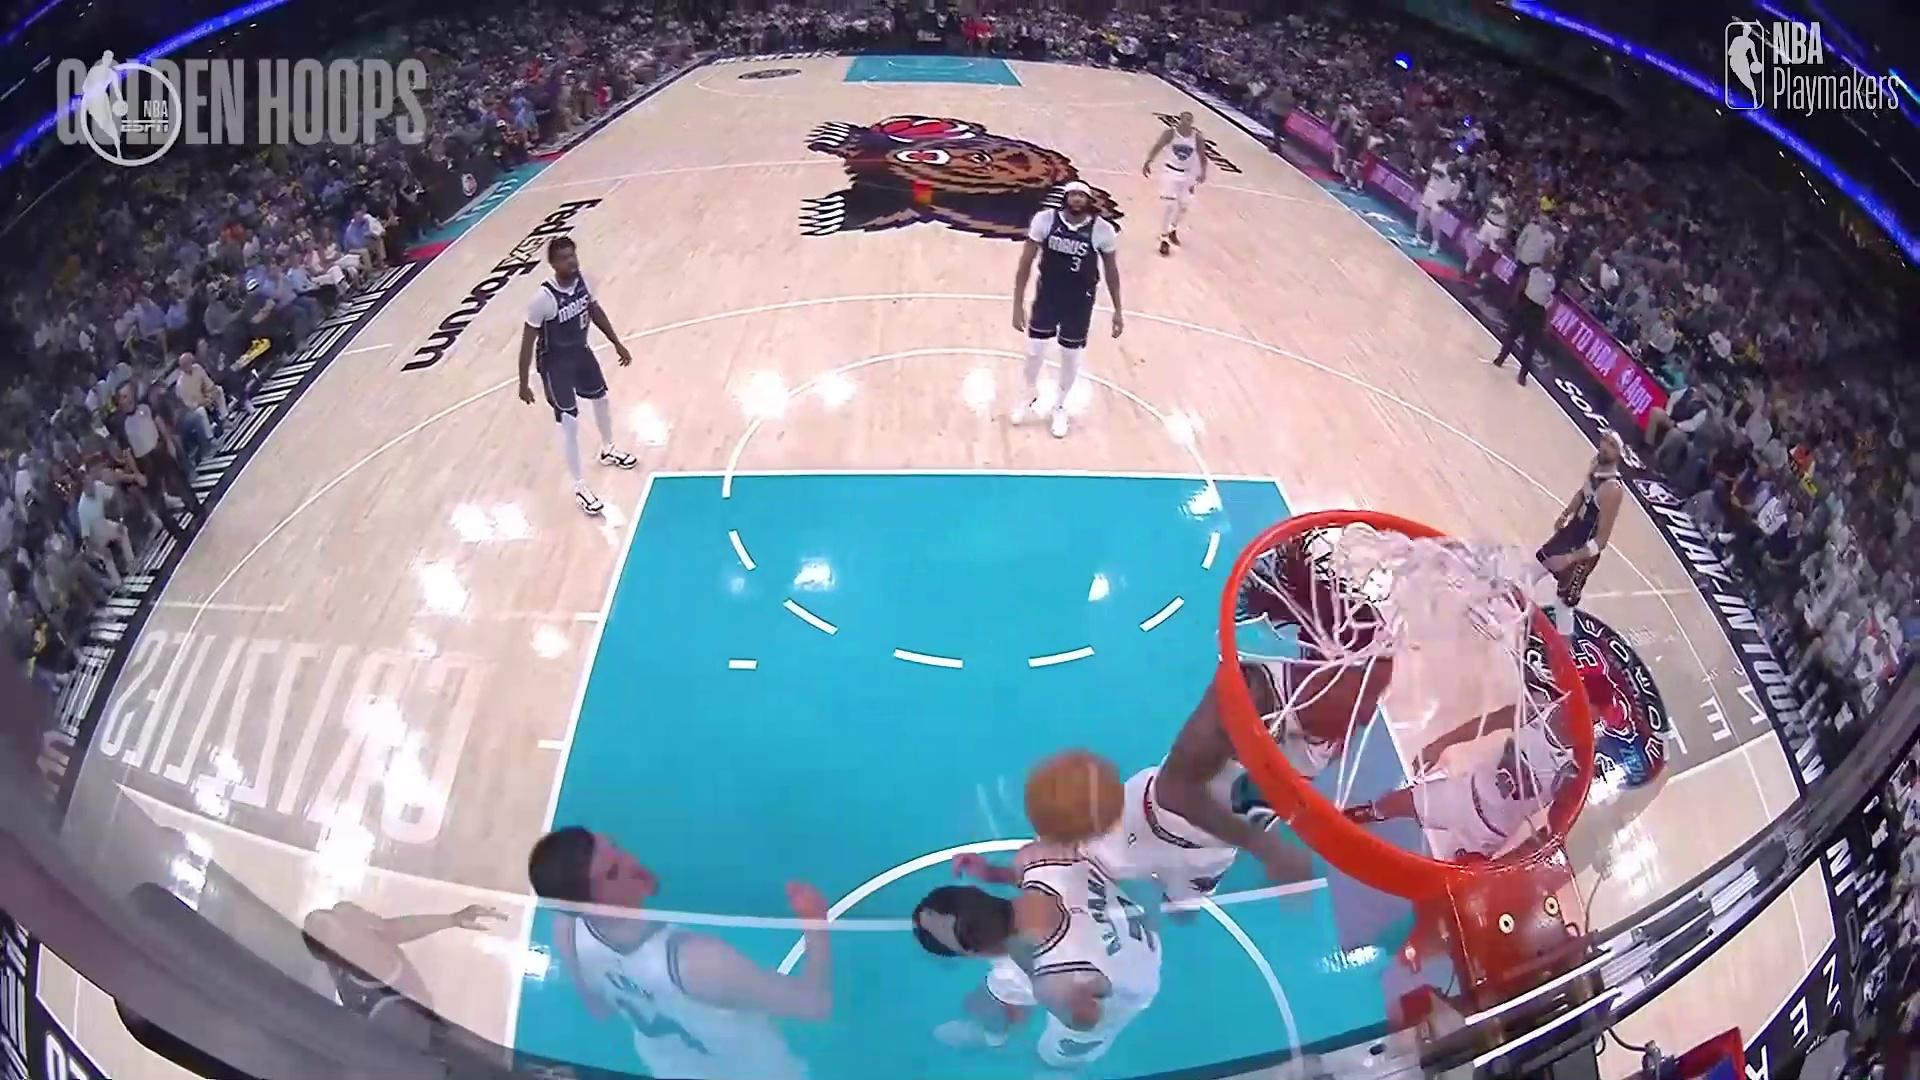ball: (1025, 749, 1124, 844)
hoop: (1200, 484, 1607, 894)
